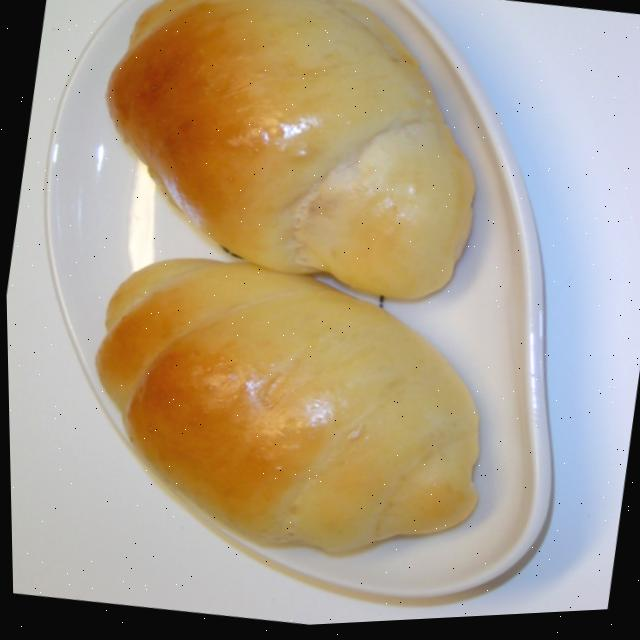面包点心: (54, 226, 523, 604)
